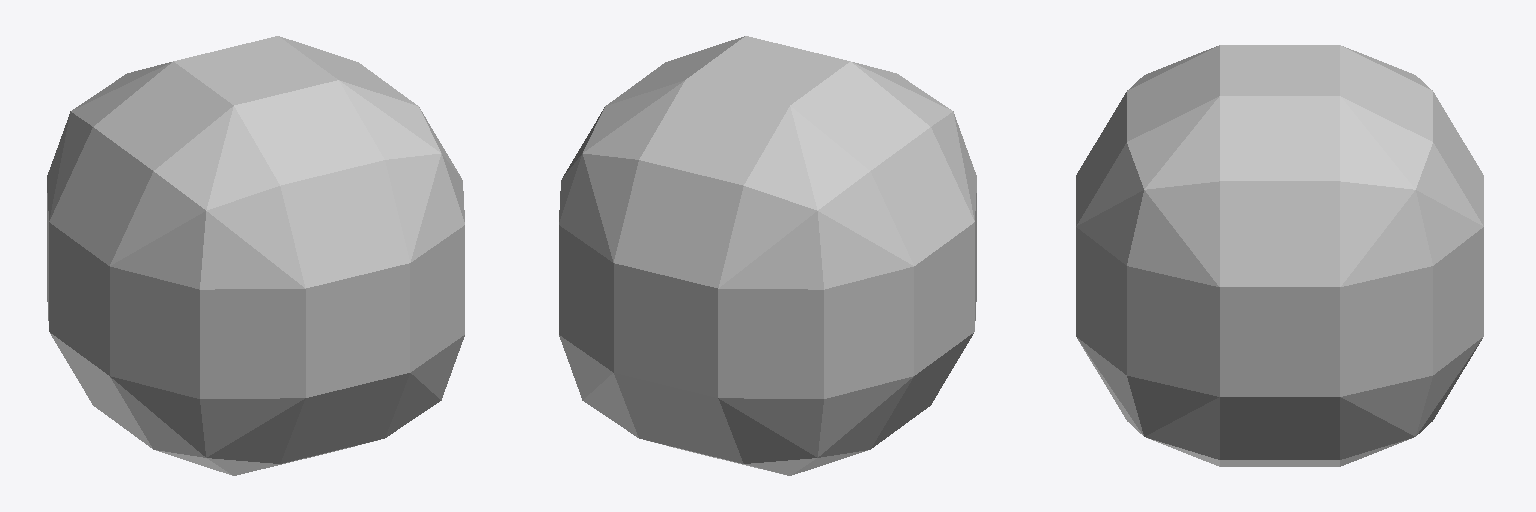
The model's file is hitbox.obj.
3 renders of one model, left to right at view 1: azimuth 30°, elevation 25°; view 2: azimuth 150°, elevation 25°; view 3: azimuth 270°, elevation 25°, orthographic.
Parts seen in each view (by area): view 1: Sphere.005; view 2: Sphere.005; view 3: Sphere.005.
Part boxes in pixels (left/top/right/bottom): Sphere.005: left=47, top=36, right=464, bottom=475; Sphere.005: left=559, top=36, right=976, bottom=475; Sphere.005: left=1076, top=45, right=1483, bottom=466.
Bounding box in the file's own units: 0.086 × 0.0862 × 0.086.